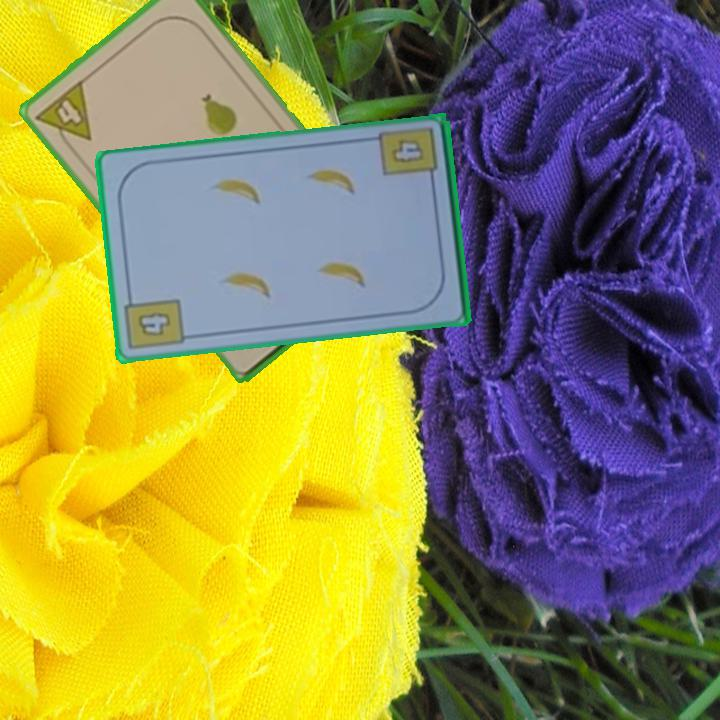4b: (121, 289, 187, 354), (387, 136, 427, 167)
4p: (32, 76, 95, 156)
